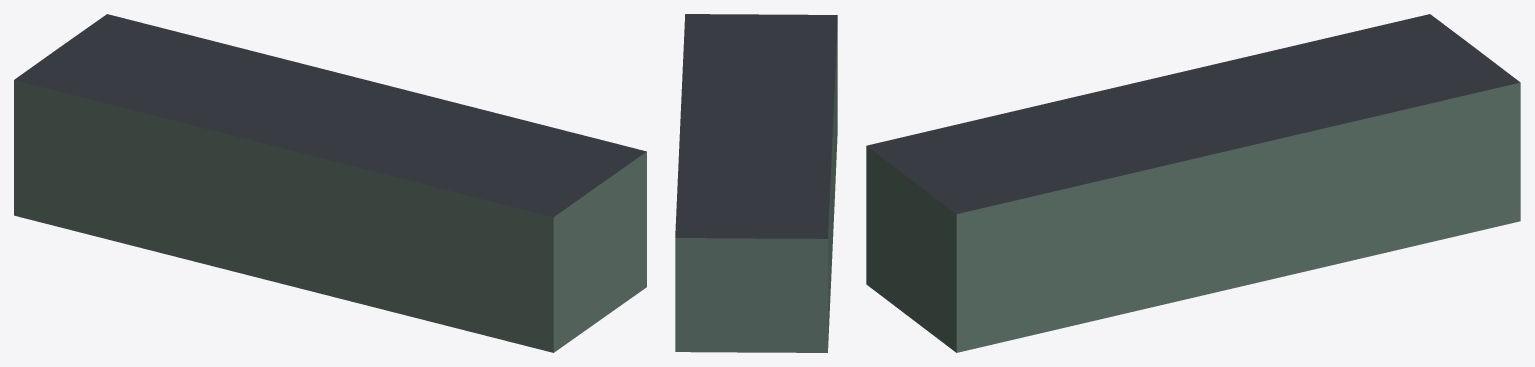
The model's file is nyc-1034351-0.glb.
The picture shows the model from 3 angles, left to right: view 1: azimuth 30°, elevation 25°; view 2: azimuth 150°, elevation 25°; view 3: azimuth 270°, elevation 25°; orthographic projection. The views are drawn at different scales.
Visible parts, largest first — view 1: nyc-1034351-0; view 2: nyc-1034351-0; view 3: nyc-1034351-0.
Boxes of the visible parts, x1,y1,x2,y2 form: nyc-1034351-0: (14, 14, 646, 352); nyc-1034351-0: (675, 14, 837, 352); nyc-1034351-0: (866, 14, 1520, 352).
Bounding box in the file's own units: 15.6 × 5.04 × 21.54.
